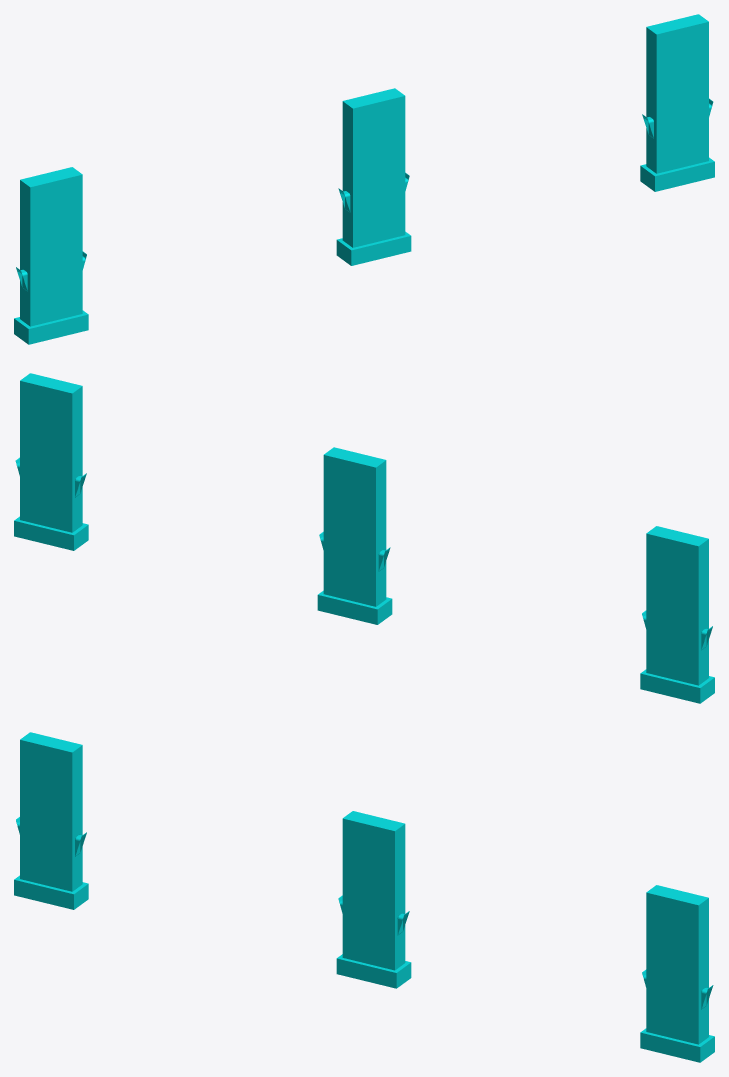
File: dc-charger-outline-final.glb
3 renders of one model, top to bottom at view 1: azimuth 30°, elevation 25°; view 2: azimuth 150°, elevation 25°; view 3: azimuth 330°, elevation 25°, orthographic.
Visible parts, largest first — view 1: charger stake.002, charger stake.003, charger stake.001; view 2: charger stake.002, charger stake.003, charger stake.001; view 3: charger stake.002, charger stake.001, charger stake.003.
Part boxes in pixels (x1,y1,x2,y2): charger stake.002: [336, 88, 411, 265]; charger stake.003: [640, 14, 714, 191]; charger stake.001: [14, 167, 88, 344]; charger stake.002: [317, 447, 392, 624]; charger stake.003: [14, 373, 88, 550]; charger stake.001: [640, 526, 714, 703]; charger stake.002: [336, 811, 411, 988]; charger stake.001: [14, 732, 88, 909]; charger stake.003: [640, 885, 714, 1062].
Size of the model in its own units: 9.23 by 1.97 by 0.34.
